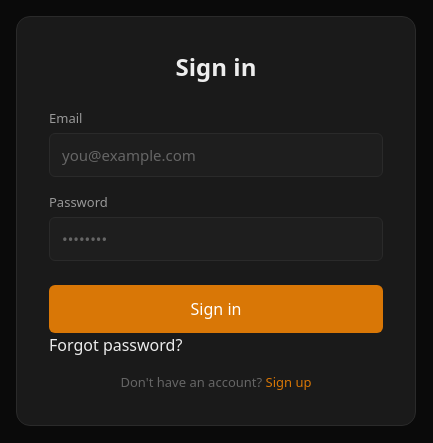
it: SignInPage › disables the submit button while the sign-in request is in flight
The width and height of the screenshot is (433, 443).
Type "user@example.com" into the field labelled "Email" at (216, 155), box [49,133,383,177]
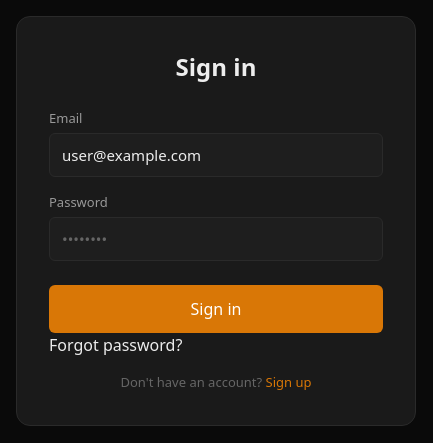
Type "secret123" into the password field labelled "Password" at (216, 239), box [49,217,383,261]
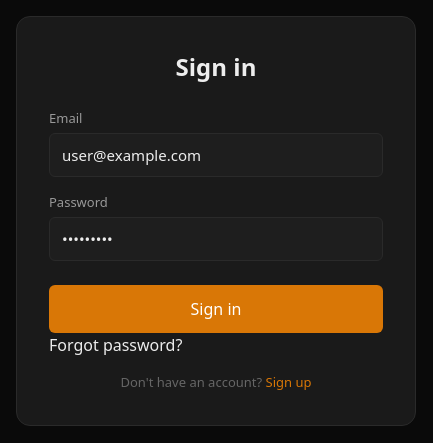
Click the button "Sign in" at (216, 309), box [49,285,383,333]
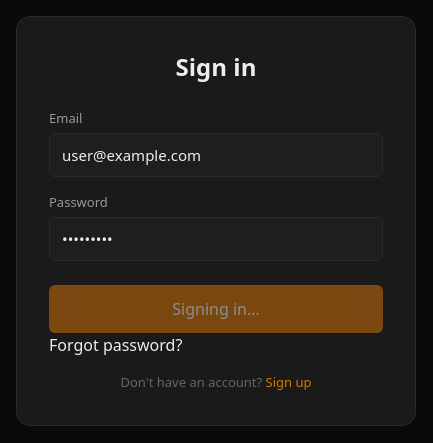
Expected: the button "Signing in…" is disabled, [49,285,383,333]
